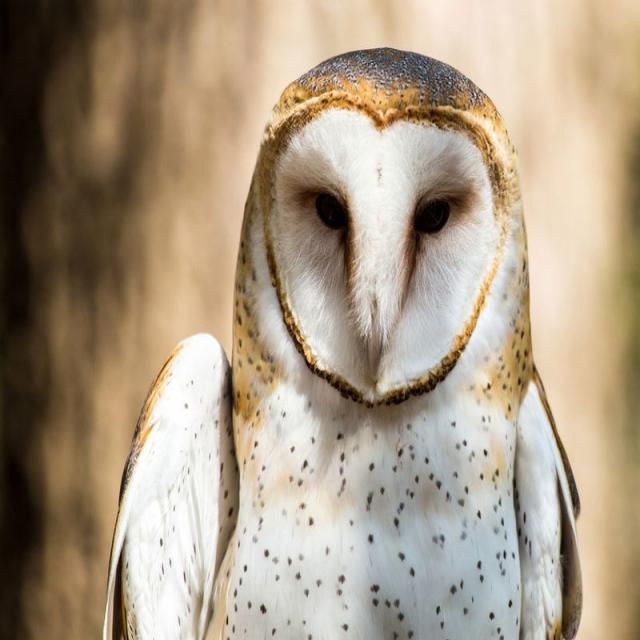owl: (103, 49, 582, 639)
